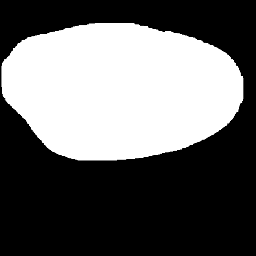mass: (7, 25, 241, 155)
